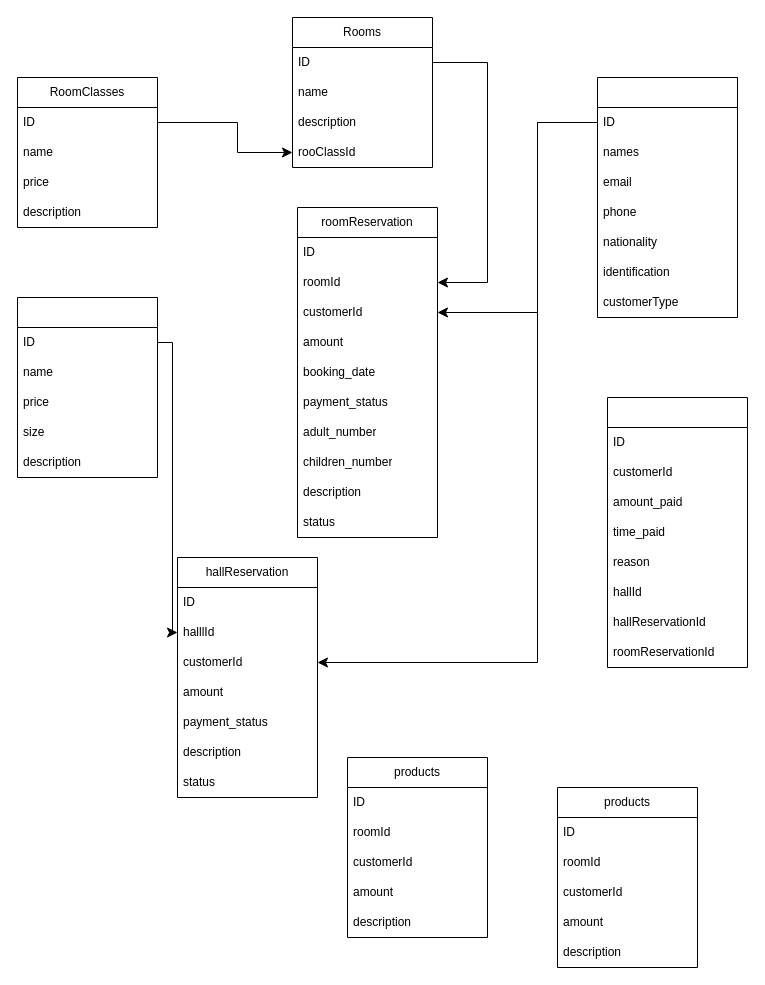
Image size: 765x985. Some labels were removed from this diagram. Here are the shapes that lost their labels. From the top down, the box of each, then its label:
(596, 76, 738, 318): Customers
(16, 296, 158, 478): Halls
(606, 396, 748, 668): payment_transaction
